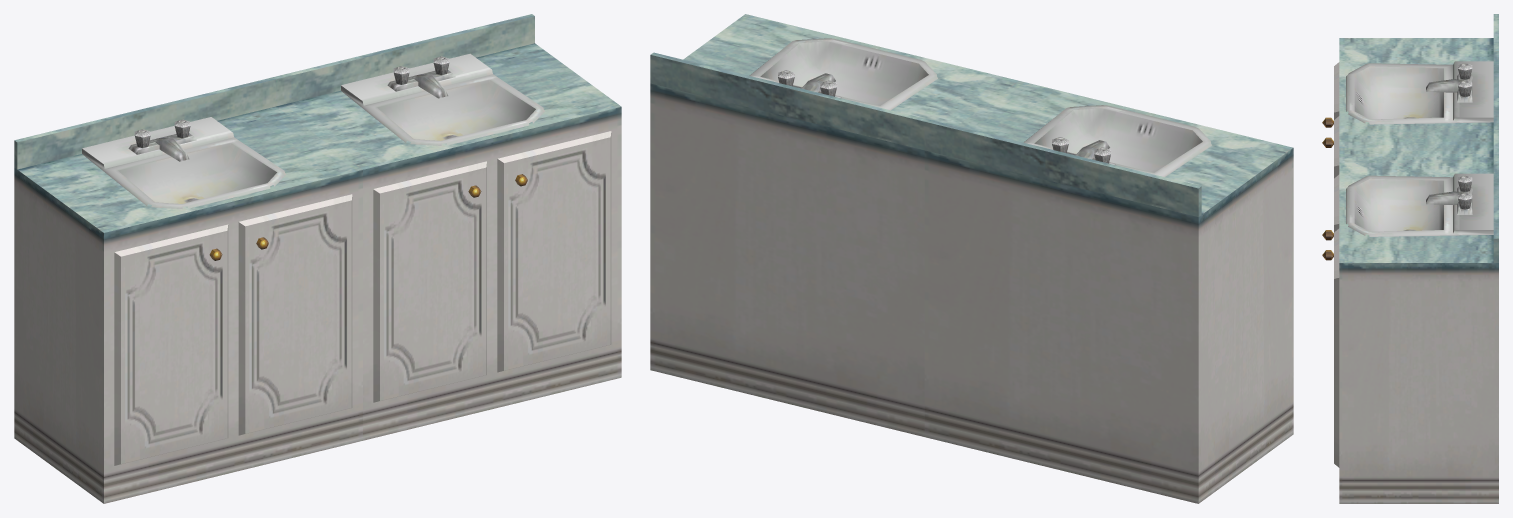
The model's file is doublesink1.fbx.
The picture shows the model from 3 angles, left to right: view 1: azimuth 30°, elevation 25°; view 2: azimuth 150°, elevation 25°; view 3: azimuth 270°, elevation 25°; orthographic projection. The views are drawn at different scales.
Visible parts, largest first — view 1: mesh_0; view 2: mesh_0; view 3: mesh_0.
Part boxes in pixels (box(x1,y1,x2,y2)): mesh_0: box(14, 14, 621, 503); mesh_0: box(650, 14, 1293, 503); mesh_0: box(1322, 14, 1498, 503).
Bounding box in the file's own units: 200 × 110 × 66.46.
Materials: 1 (1 with a texture image).
